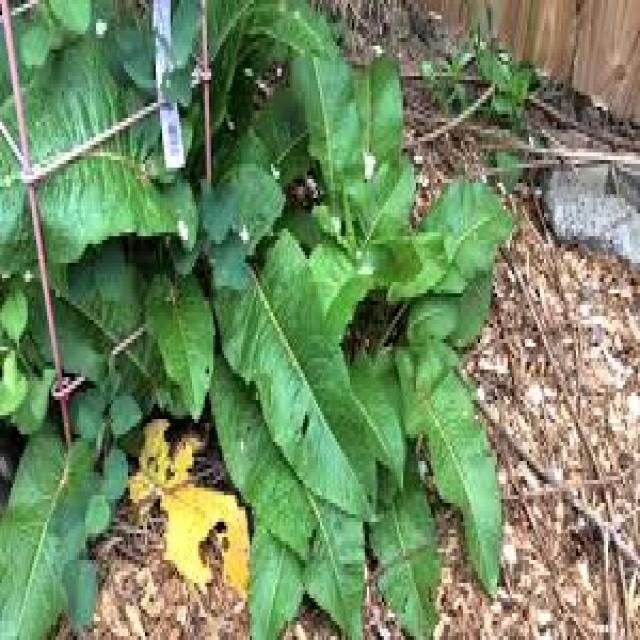organic waste: (277, 68, 557, 624), (177, 0, 441, 571), (2, 0, 233, 469)
